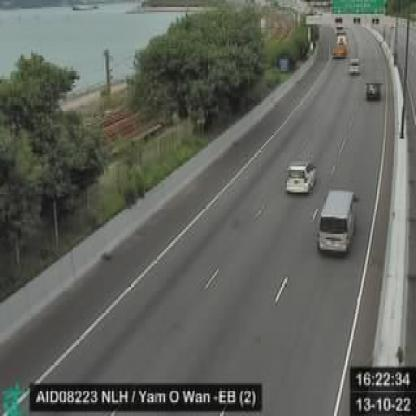Car: (315, 188, 363, 256), (283, 159, 320, 196), (367, 80, 383, 100), (349, 57, 363, 76)
Truck: (334, 35, 348, 59)
